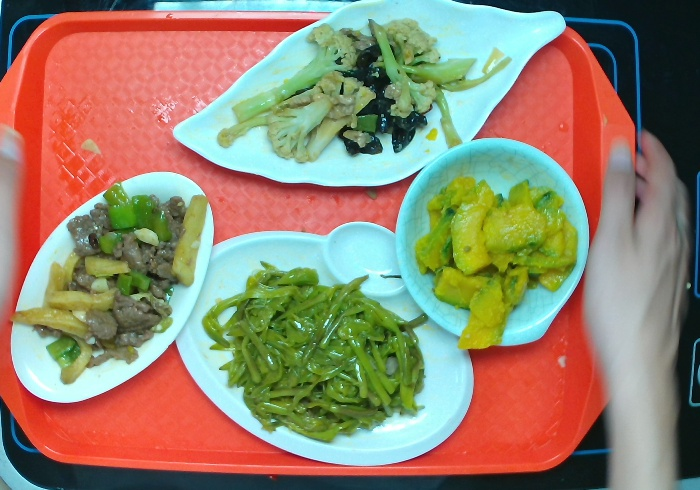RJxy-Bai_Se_Tuo_Yuan: (6, 167, 218, 410)
RJxy-Shu_Ye_Pan: (172, 1, 572, 189)
RJxy-Xiao_Jiao_Yuan_Wan: (392, 135, 595, 356)
RJxy-Zhan_Liao_Pan: (173, 217, 482, 468)
